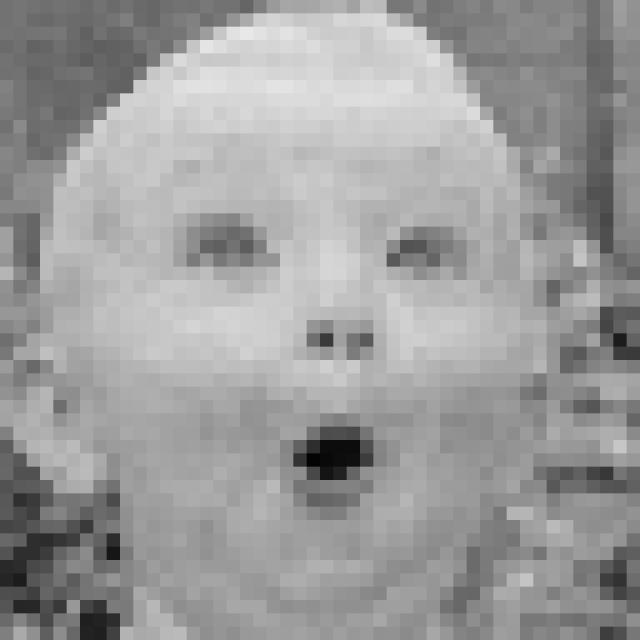surprise: (156, 179, 494, 526)
